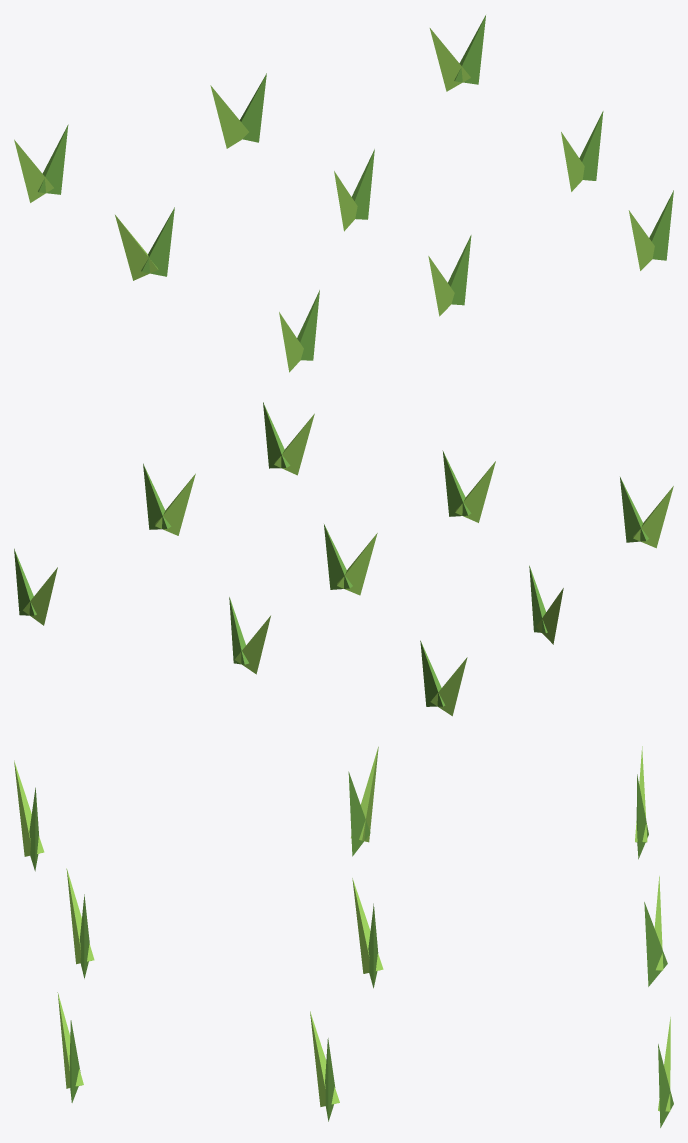
File: beet-1.glb
The picture shows the model from 3 angles, top to bottom: view 1: azimuth 30°, elevation 25°; view 2: azimuth 150°, elevation 25°; view 3: azimuth 270°, elevation 25°; orthographic projection. The views are drawn at different scales.
Parts seen in each view (by area): view 1: beet-1; view 2: beet-1; view 3: beet-1.
Part boxes in pixels (<box>): beet-1: <box>14,15,673,372</box>; beet-1: <box>14,402,673,716</box>; beet-1: <box>14,746,673,1127</box>.
Size of the model in its own units: 0.5911 by 0.0846 by 0.5446.
1 material, 1 textured.
